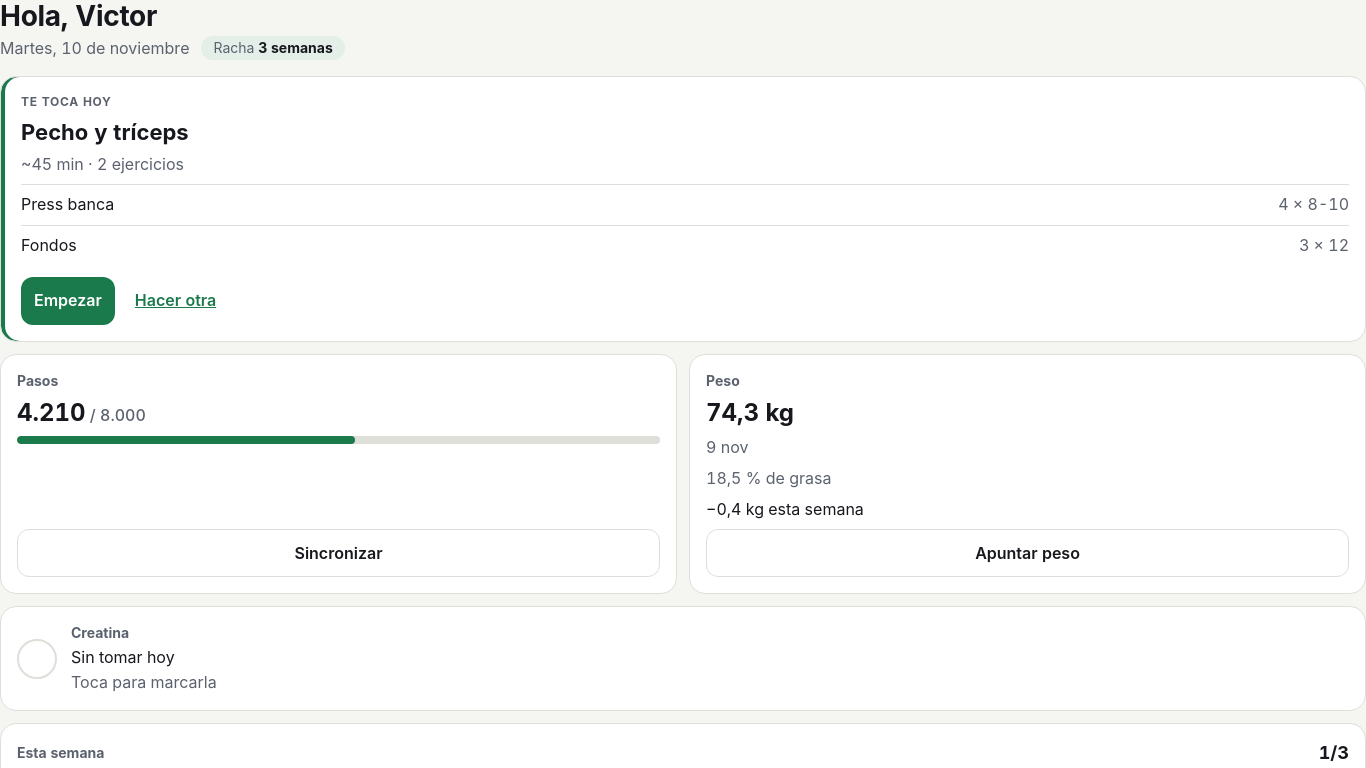
Test: Hoy: hoja Apuntar peso › si el servidor falla deja la hoja abierta con el mensaje y lo escrito
Check: the heading "Hola, Victor" is shown, box x1=0 y1=0 x2=157 y2=33
Click the button "Apuntar peso": coordinates (1028, 554) x1=706 y1=530 x2=1349 y2=578
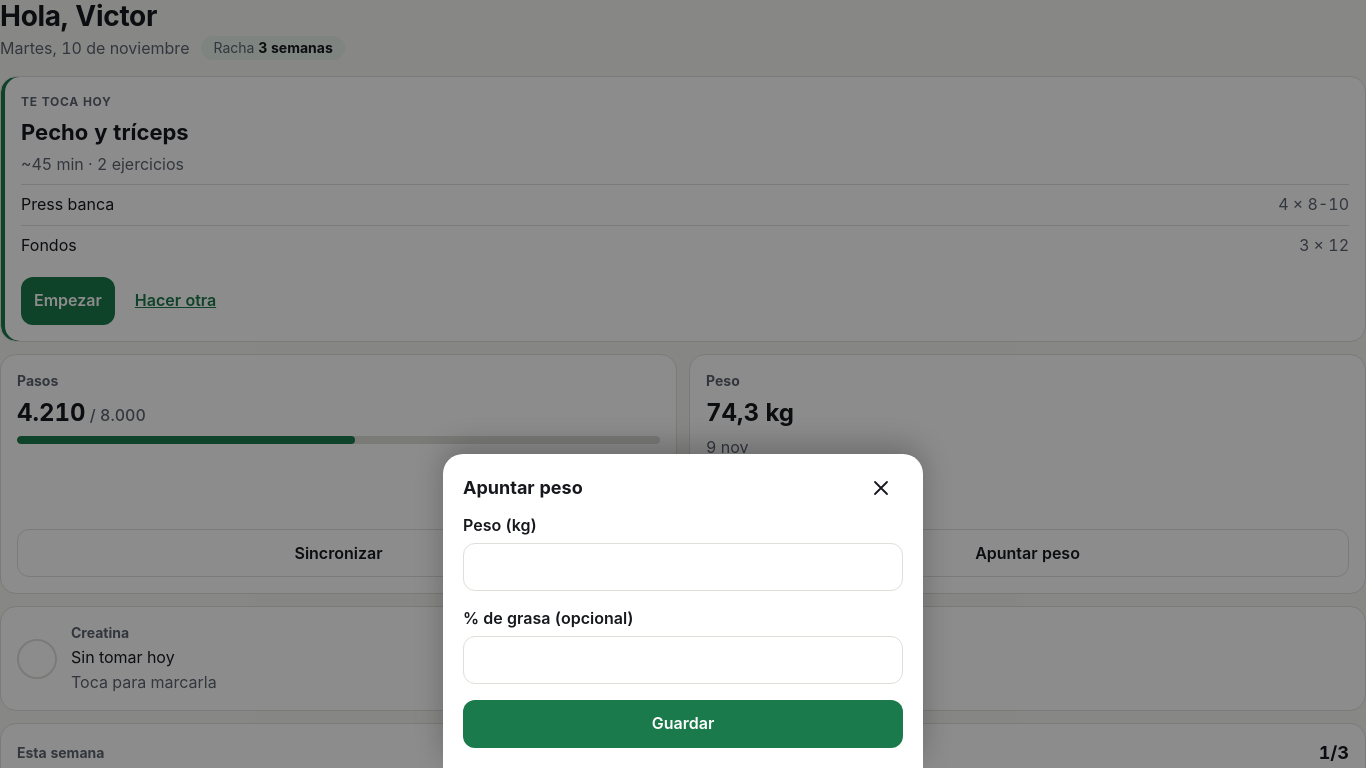
In the field labelled "Peso (kg)": coordinates (683, 567) x1=463 y1=543 x2=903 y2=591, type "70"
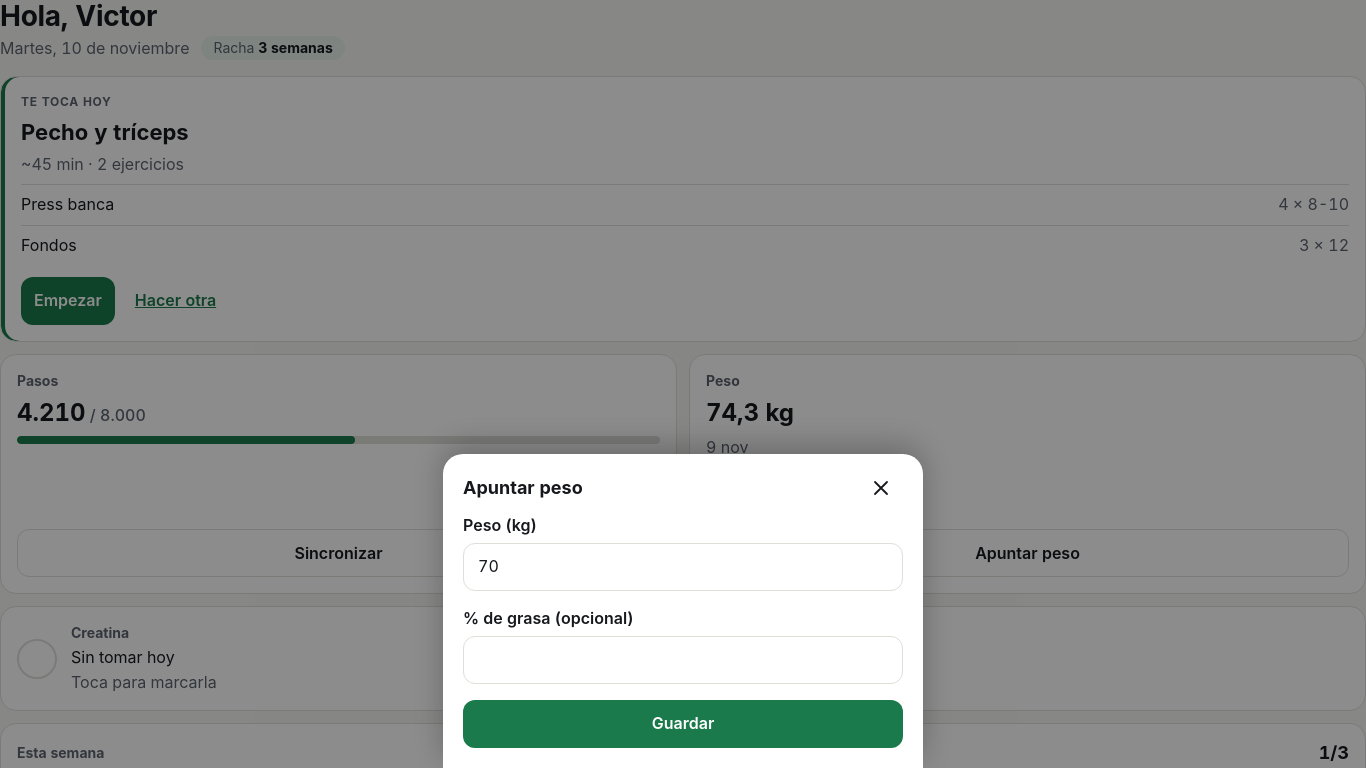
Click the button "Guardar": coordinates (683, 724) x1=463 y1=700 x2=903 y2=748
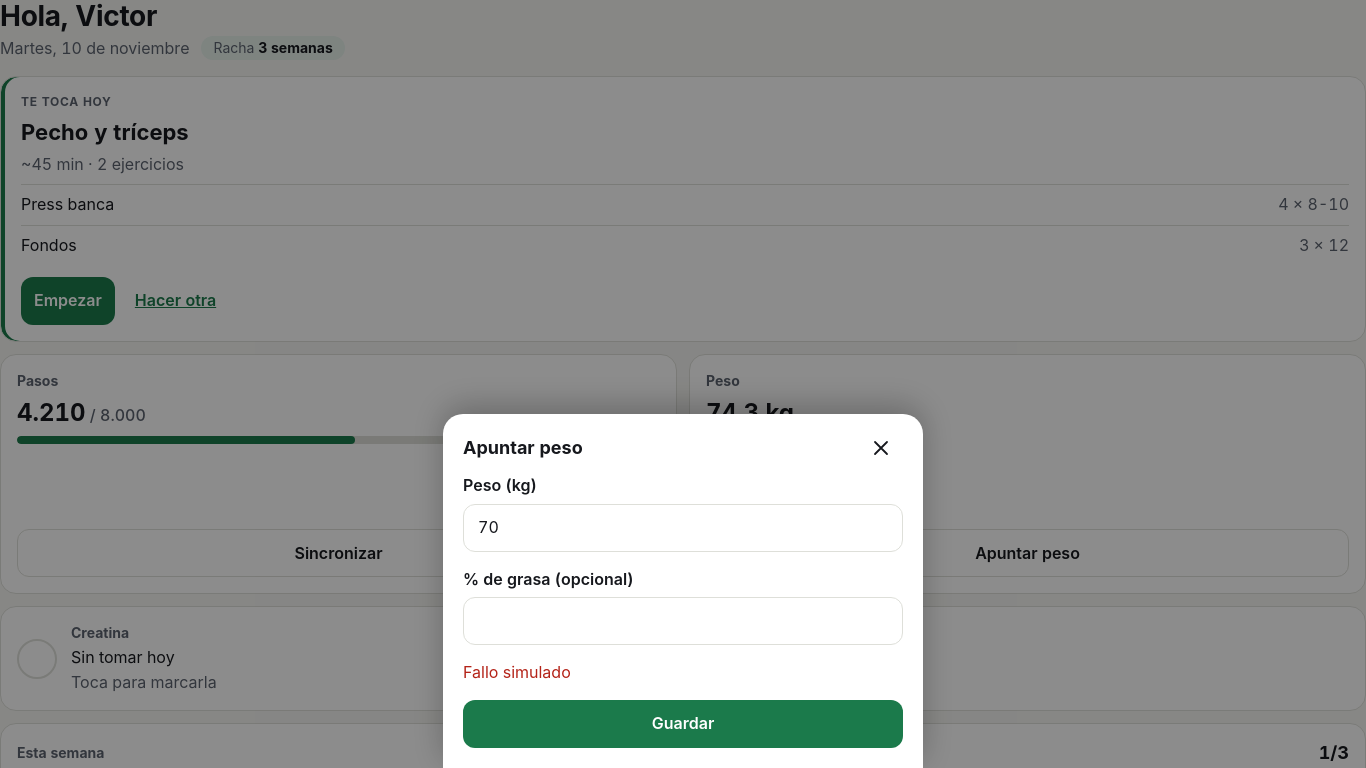
Check: the dialog "Apuntar peso" is shown, box x1=443 y1=414 x2=923 y2=767
Check: the message reads "Fallo simulado", box x1=463 y1=662 x2=571 y2=682
